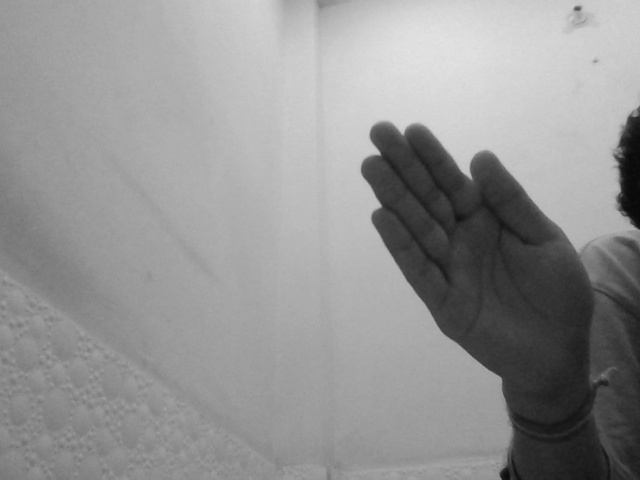Hello: (355, 117, 597, 385)
